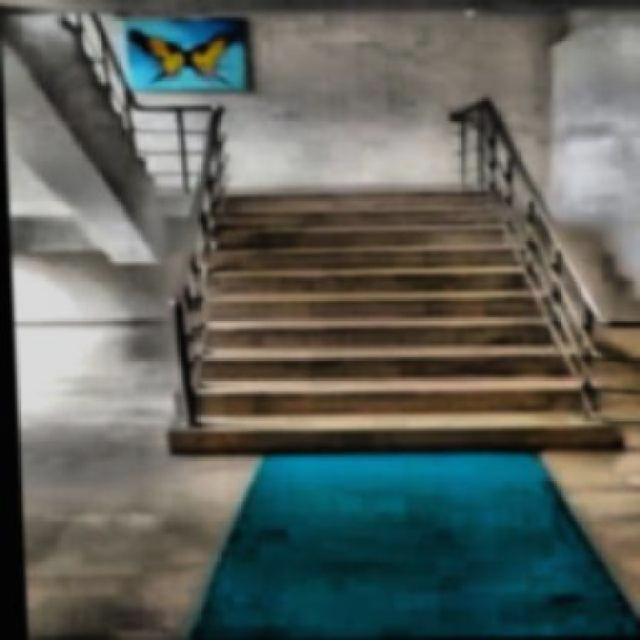stair: (180, 189, 618, 457)
